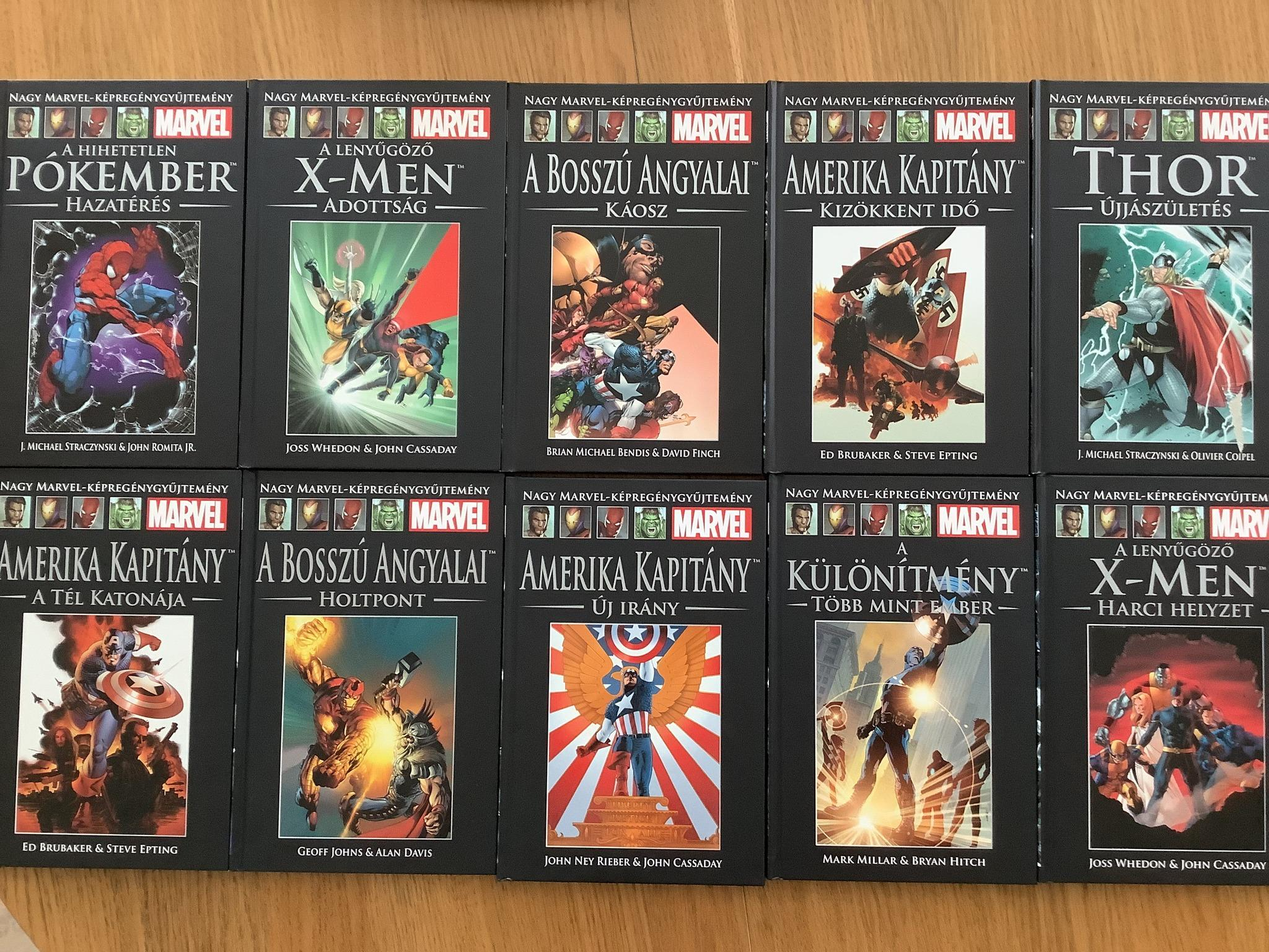comic: (233, 466, 507, 877), (498, 475, 770, 883), (768, 476, 1037, 882), (241, 77, 507, 471), (766, 82, 1031, 474), (503, 82, 766, 473), (0, 466, 241, 869), (0, 78, 245, 468), (1038, 476, 1268, 883), (1033, 82, 1268, 475)
